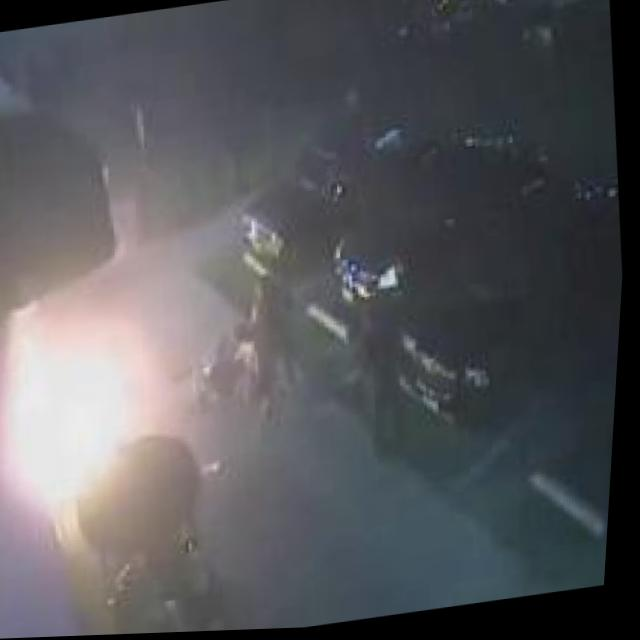fire: (0, 298, 176, 520)
